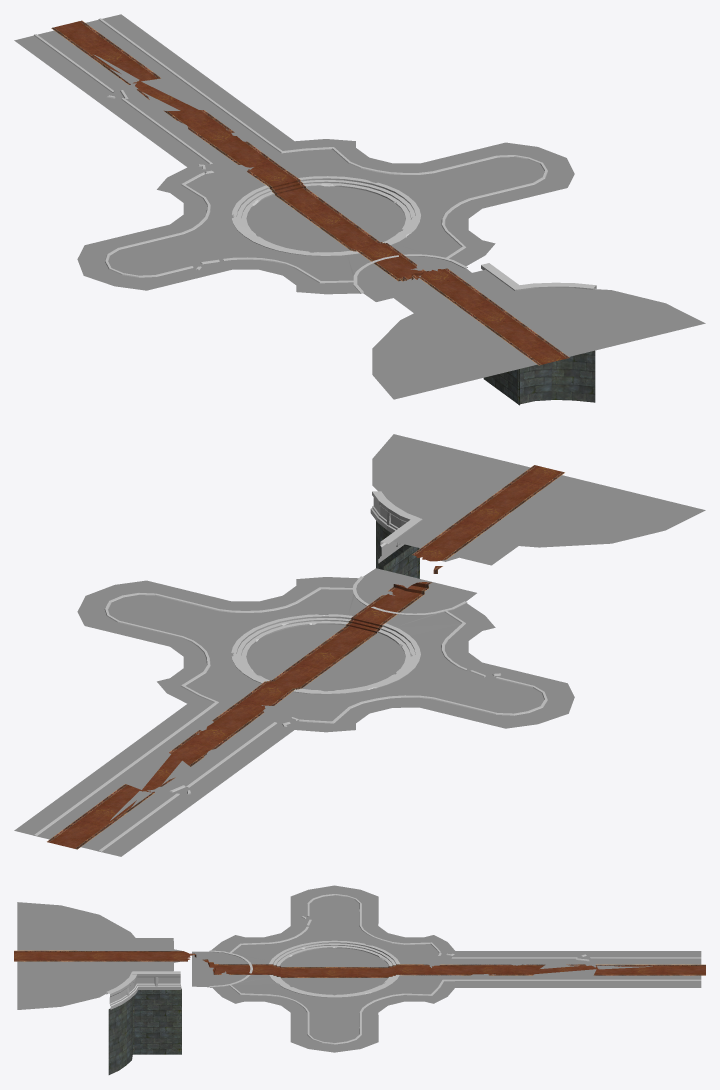
3 renders of one model, top to bottom at view 1: azimuth 30°, elevation 25°; view 2: azimuth 150°, elevation 25°; view 3: azimuth 270°, elevation 25°, orthographic. The views are drawn at different scales.
Parts seen in each view (by area): view 1: f_2237_ground_a, f_2237_ground_d, f_2237_ground_c, f_2237_ground_b, f_2237_wall_long_b, f_2237_wall_long_a; view 2: f_2237_ground_a, f_2237_ground_d, f_2237_ground_c, f_2237_ground_b, f_2237_wall_short_b, f_2237_wall_long_a; view 3: f_2237_ground_a, f_2237_ground_d, f_2237_wall_long_a, f_2237_ground_c, f_2237_ground_b, f_2237_wall_long_b, f_2237_wall_short_a, f_2237_wall_short_b.
Boxes of the visible parts, <box> form: f_2237_ground_a: <box>14,14,705,399</box>; f_2237_ground_d: <box>51,20,569,365</box>; f_2237_ground_c: <box>34,18,547,293</box>; f_2237_ground_b: <box>231,176,421,256</box>; f_2237_wall_long_b: <box>518,350,595,404</box>; f_2237_wall_long_a: <box>483,369,519,405</box>; f_2237_ground_a: <box>14,434,705,856</box>; f_2237_ground_d: <box>47,465,564,849</box>; f_2237_ground_c: <box>34,576,547,852</box>; f_2237_ground_b: <box>231,614,420,694</box>; f_2237_wall_short_b: <box>370,491,420,532</box>; f_2237_wall_long_a: <box>383,546,419,578</box>; f_2237_ground_a: <box>17,885,701,1052</box>; f_2237_ground_d: <box>14,950,705,977</box>; f_2237_wall_long_a: <box>133,988,181,1054</box>; f_2237_ground_c: <box>209,894,701,1044</box>; f_2237_ground_b: <box>269,940,399,997</box>; f_2237_wall_long_b: <box>108,997,132,1074</box>; f_2237_wall_short_a: <box>132,971,181,989</box>; f_2237_wall_short_b: <box>106,972,138,1009</box>.
Bounding box in the file's own units: 1887 × 433 × 3301.
